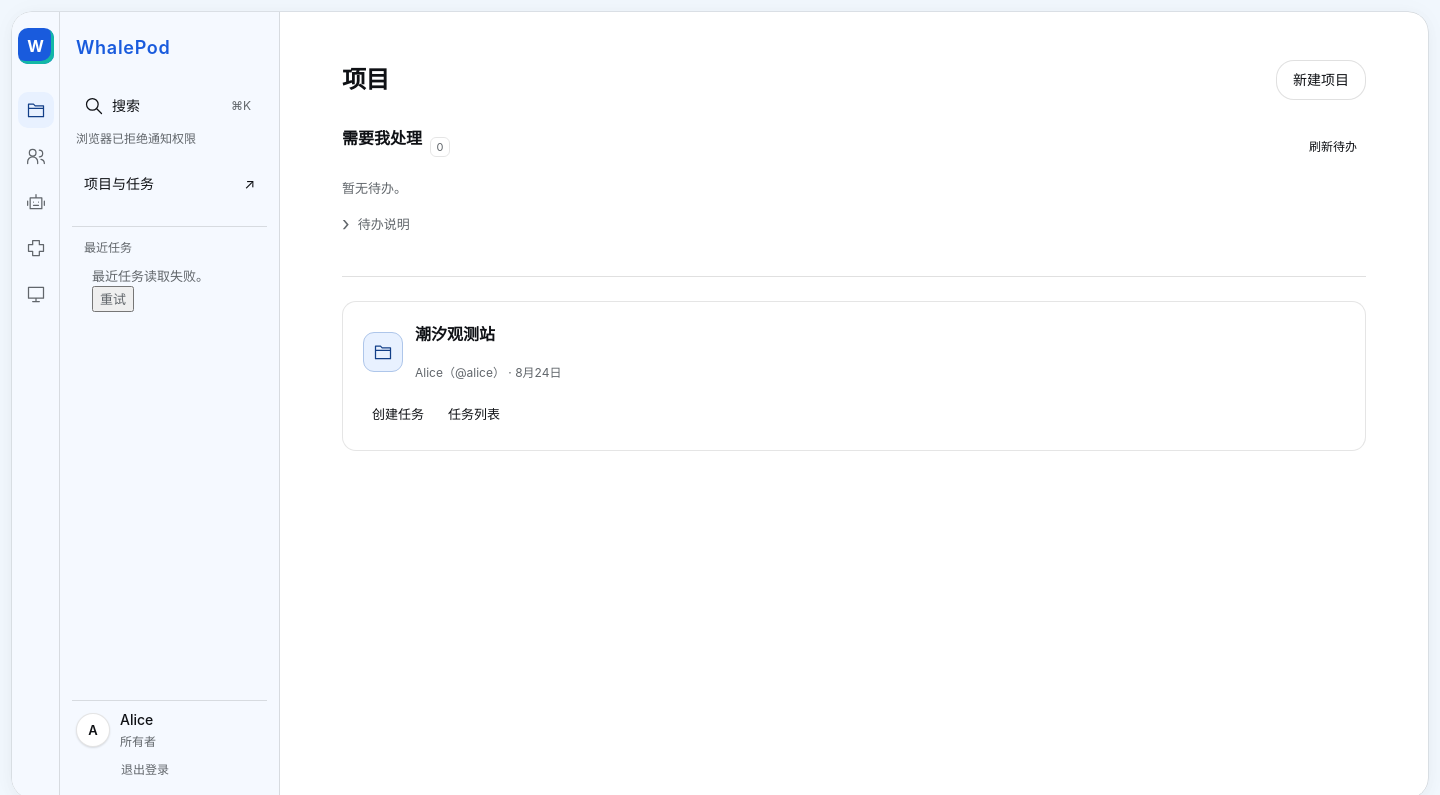
#152 名册新鲜度：挂载后加入的成员必须出现在责任人相关界面 › 页面挂载后 Bob 才加入：责任人下拉里能看到 Bob（不是只吃缓存）
The width and height of the screenshot is (1440, 795).
Expected: the heading "潮汐观测站" is shown, [415,324,495,344]
Click the button "创建任务": (398, 414) [363,398,433,430]
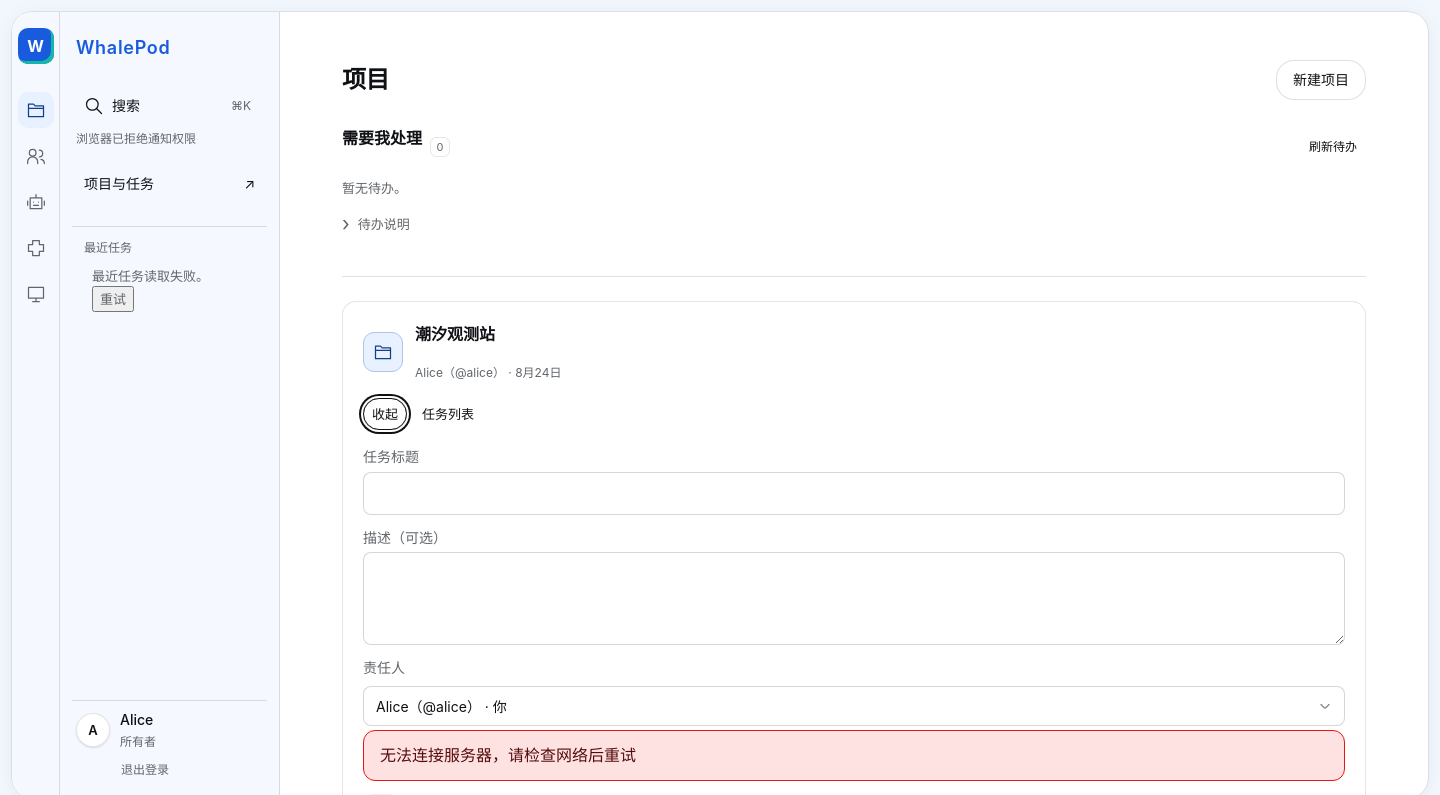
Click the button named "责任人": (441, 706) [363,686,1345,726]
(page scrolled)
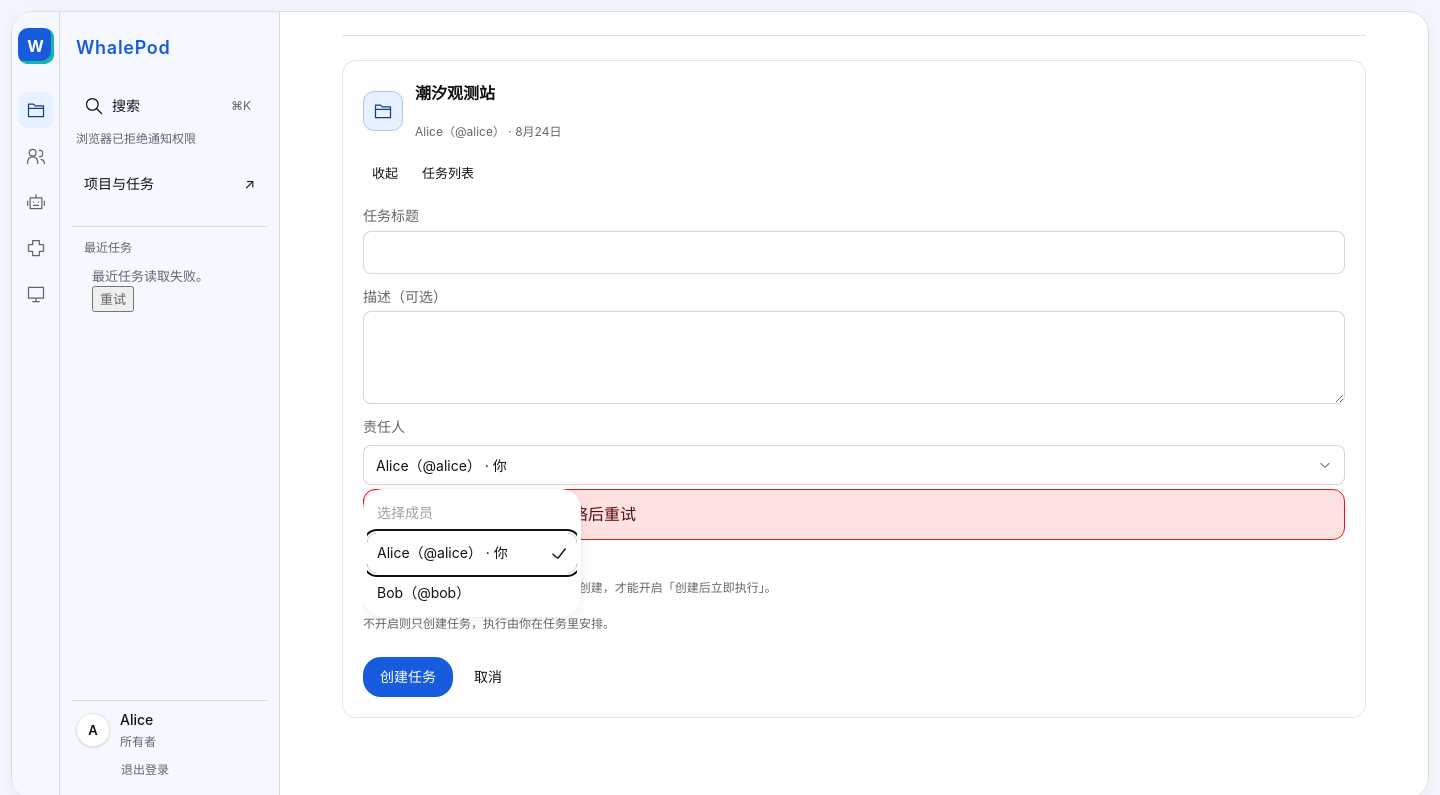
Expected: the menu item "Bob（@bob）" is shown, [367,573,577,613]
